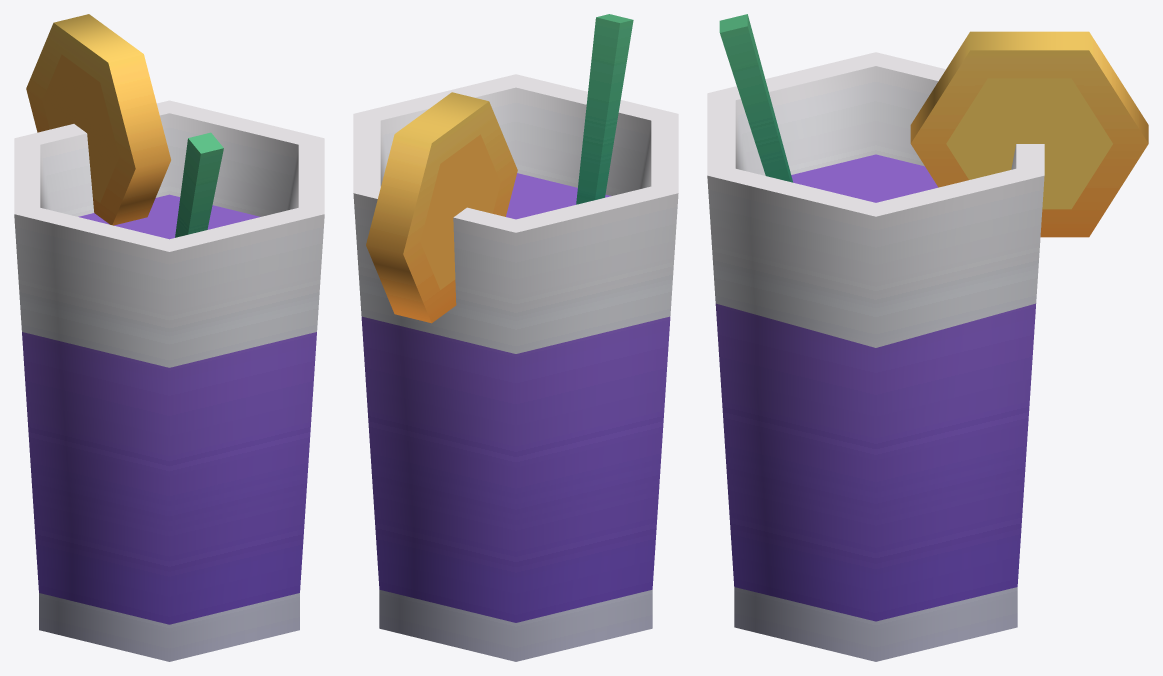
The model's file is soda-glass.glb.
The picture shows the model from 3 angles, left to right: view 1: azimuth 30°, elevation 25°; view 2: azimuth 150°, elevation 25°; view 3: azimuth 270°, elevation 25°; orthographic projection. The views are drawn at different scales.
Parts seen in each view (by area): view 1: soda-glass, lemon, straw; view 2: soda-glass, lemon, straw; view 3: soda-glass, lemon, straw.
Part boxes in pixels (bbox=[...]): soda-glass: bbox=[14, 100, 324, 661]; lemon: bbox=[26, 14, 170, 225]; straw: bbox=[175, 132, 223, 237]; soda-glass: bbox=[353, 74, 678, 661]; lemon: bbox=[366, 92, 517, 323]; straw: bbox=[576, 14, 633, 204]; soda-glass: bbox=[707, 52, 1044, 661]; lemon: bbox=[910, 31, 1148, 237]; straw: bbox=[719, 14, 793, 182].
Bounding box in the file's own units: 0.2618 × 0.4134 × 0.2967.
1 material, 1 textured.
